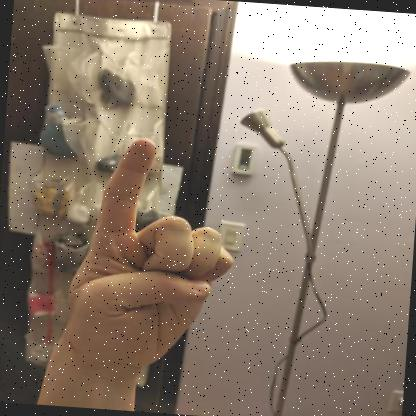D: (47, 139, 234, 372)
